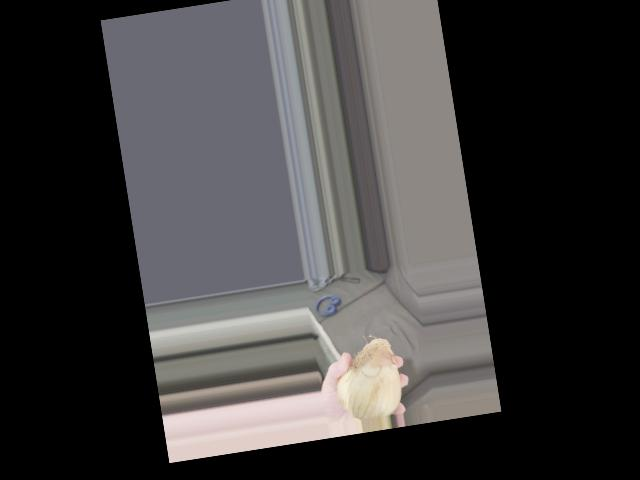onion: (330, 334, 405, 418)
